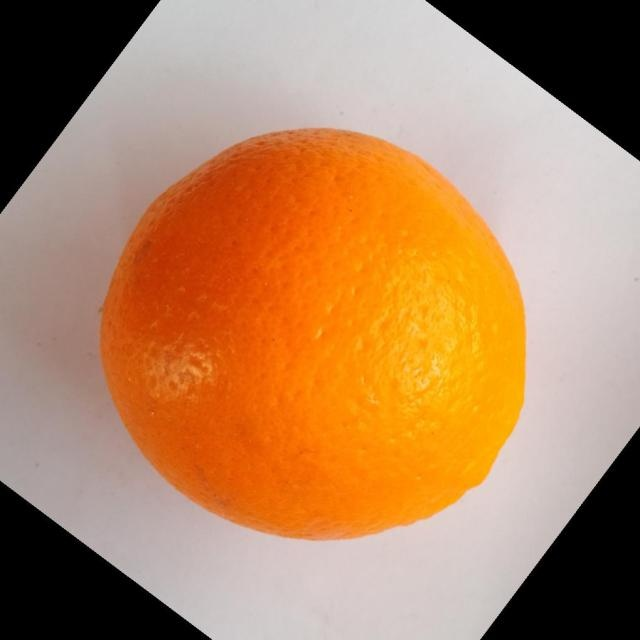agrume: (98, 126, 528, 542)
